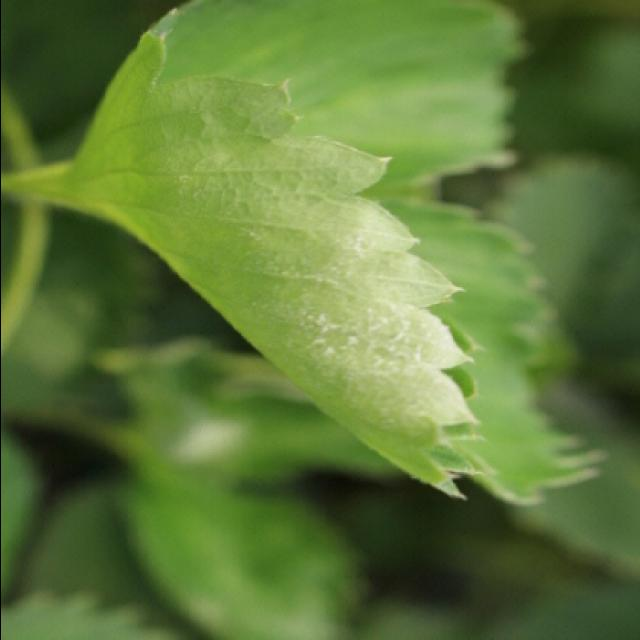Powdery Mildew Leaf: (62, 30, 495, 501)
